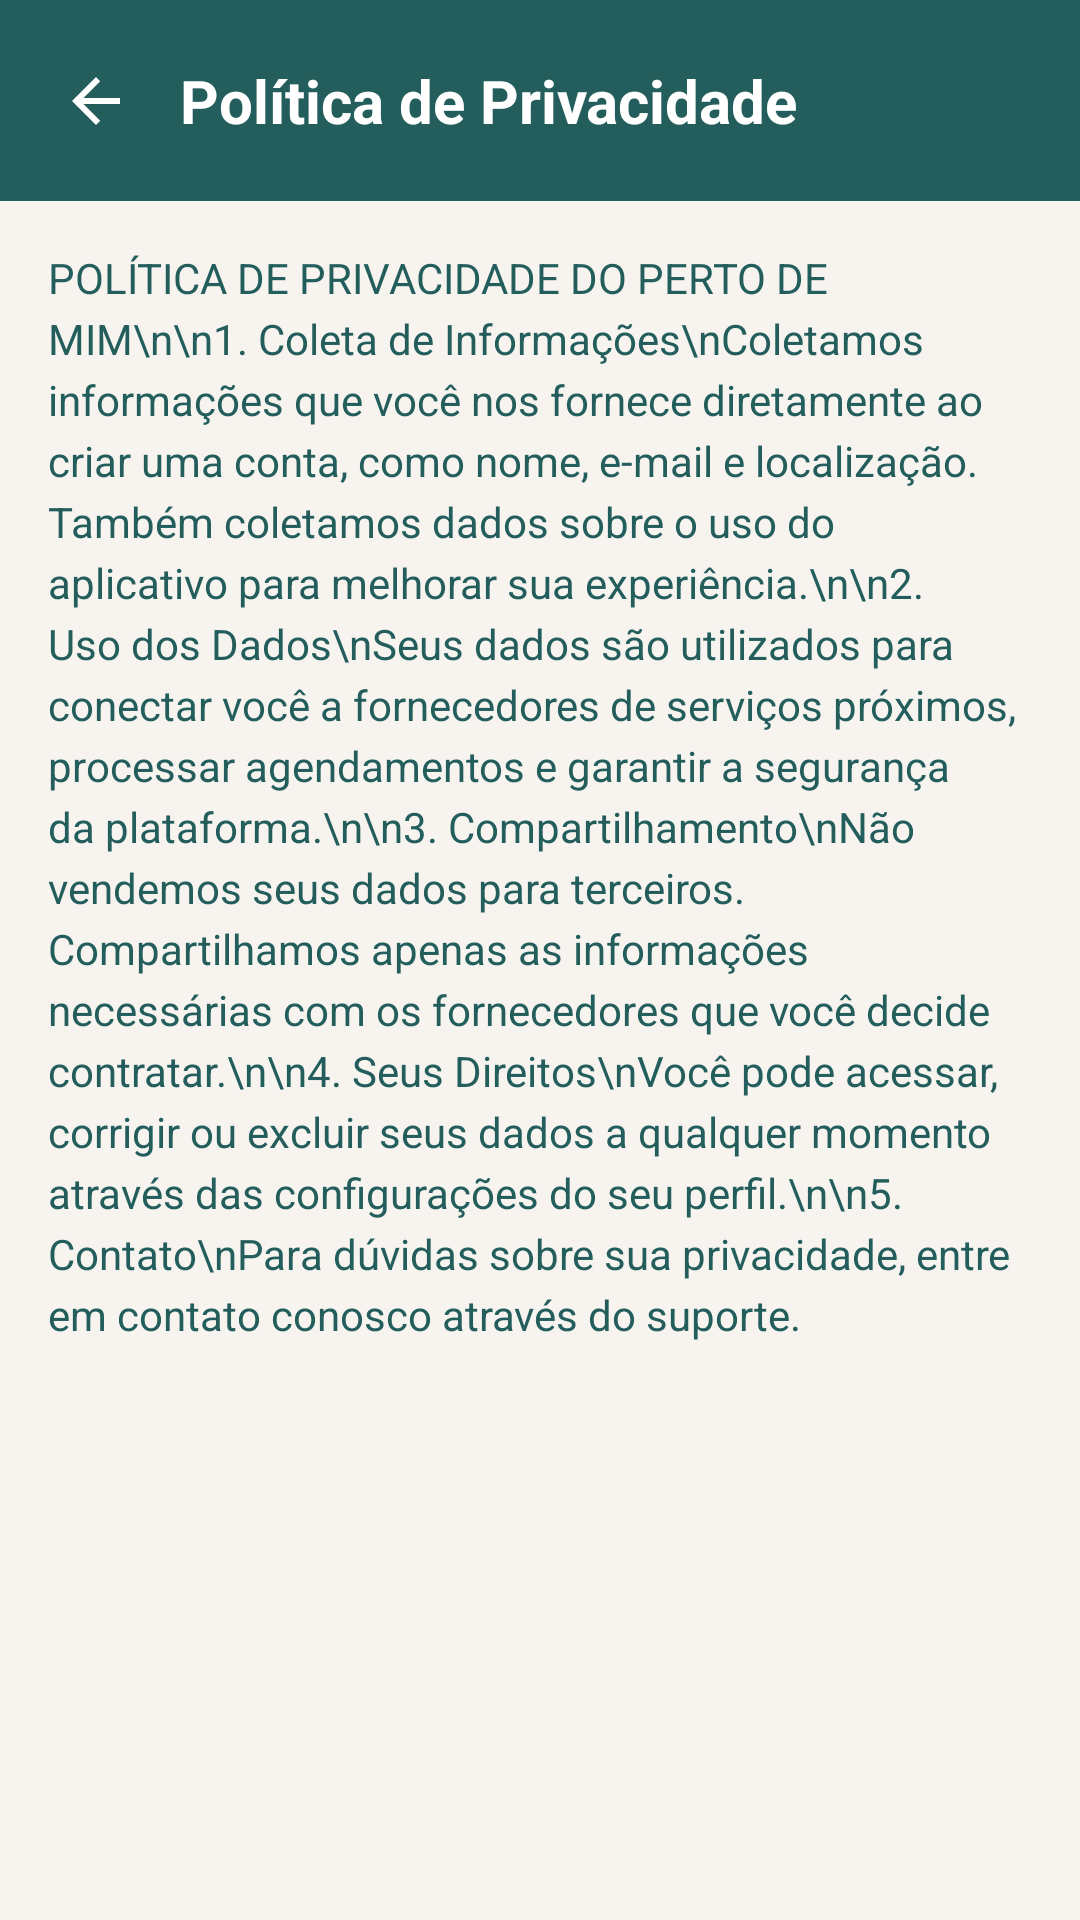

Where icons sit on this 1080 × 1920 app screen, as (x1, y1, x2, y2):
Voltar: (72, 77, 120, 125)
